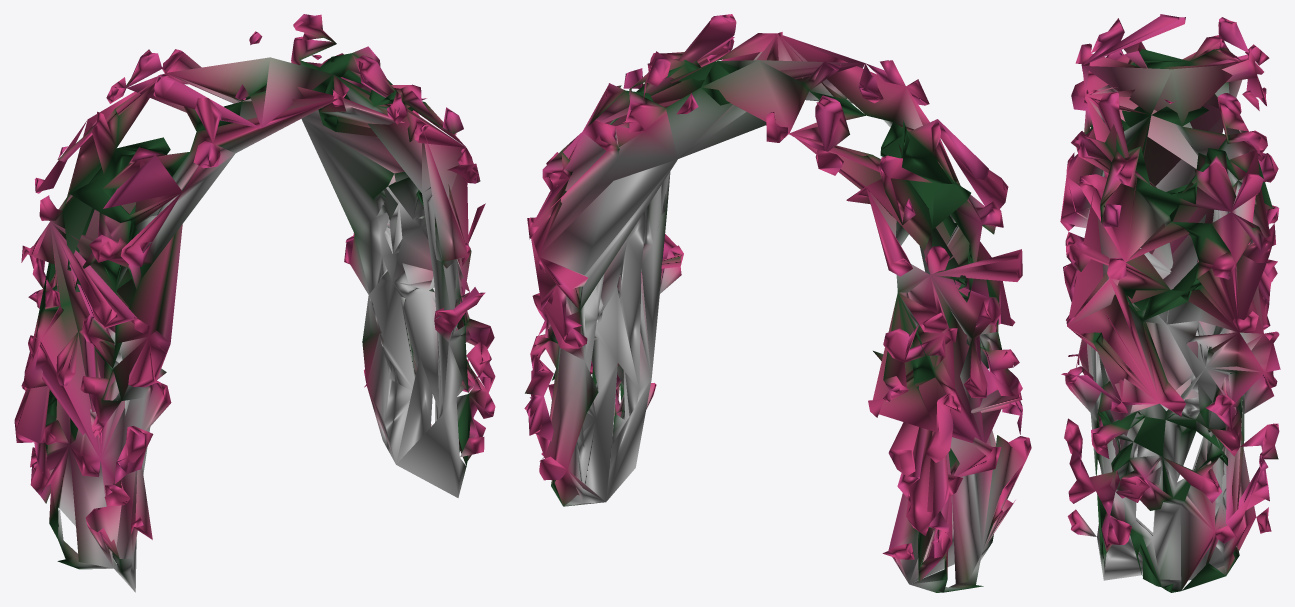
Rendered from gen3d-garden-arch-lod0.glb.
The picture shows the model from 3 angles, left to right: view 1: azimuth 30°, elevation 25°; view 2: azimuth 150°, elevation 25°; view 3: azimuth 270°, elevation 25°; orthographic projection. The views are drawn at different scales.
Parts seen in each view (by area): view 1: part_0; view 2: part_0; view 3: part_0.
Part boxes in pixels (x1,y1,x2,y2): part_0: (14, 14, 495, 592); part_0: (524, 14, 1031, 592); part_0: (1060, 14, 1280, 592).
Bounding box in the file's own units: 0.8915 × 0.9988 × 0.4341.
